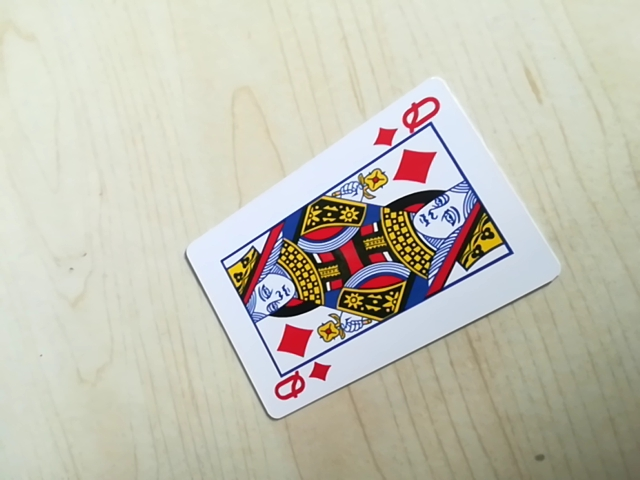fk q: (372, 88, 445, 150), (265, 356, 334, 413)
